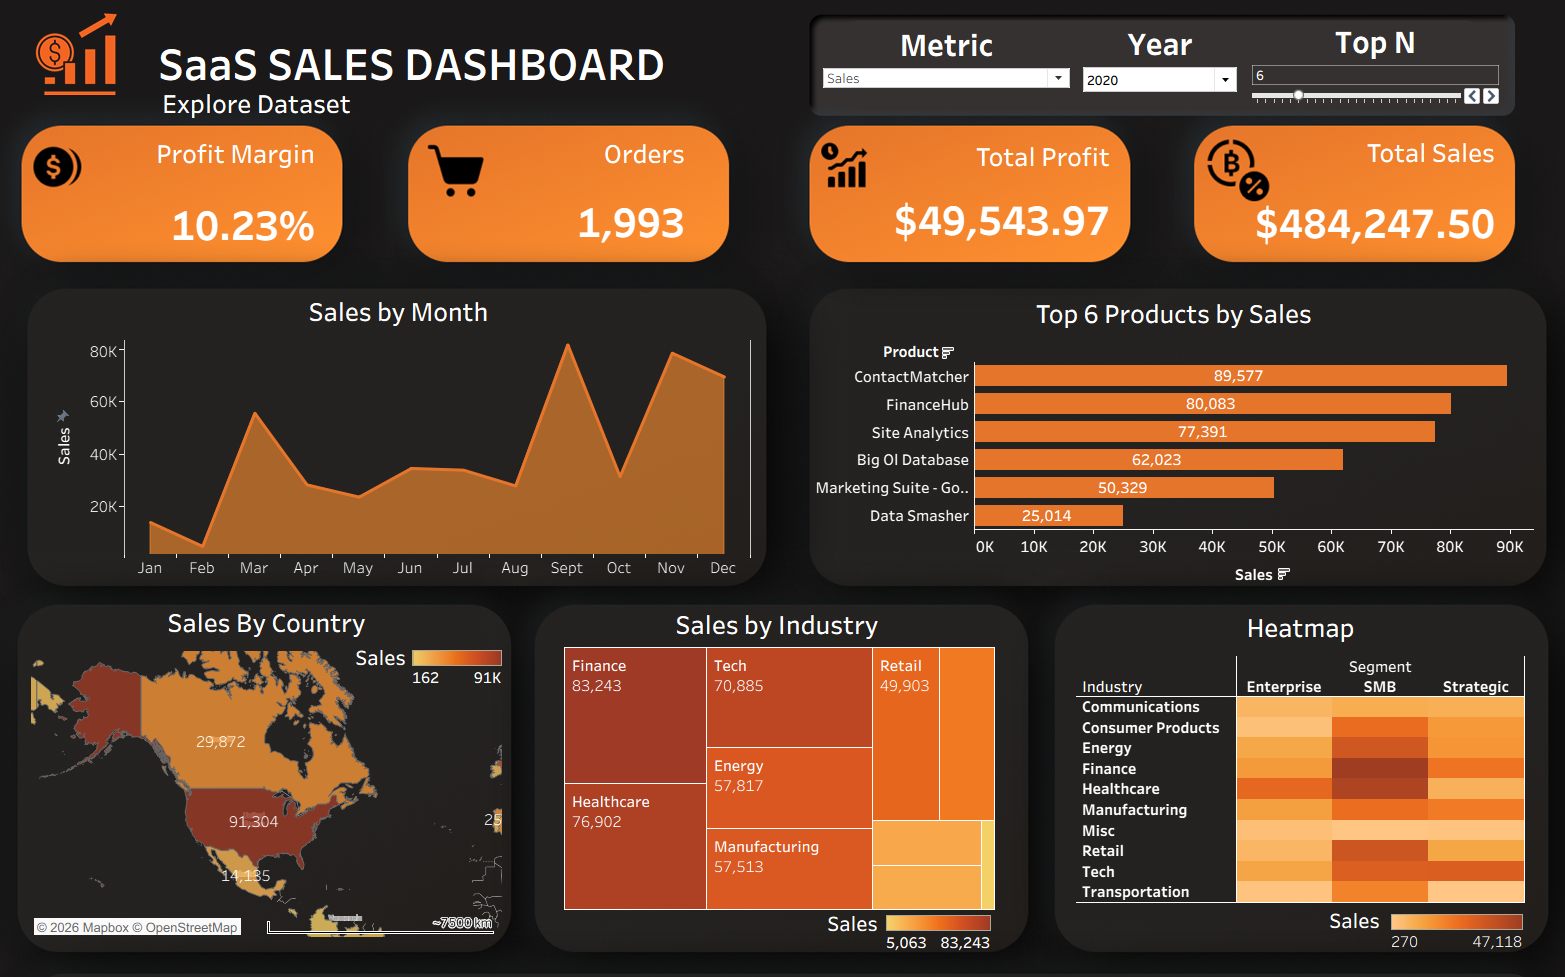

The page's visual inventory and layout, read from the dashboard file:
{"tool":"tableau","page":{"name":"Sales Dashboard","canvas":[1600,1300],"ordinal":0},"visuals":[{"type":"image","param":"Image/BG2.png","box":[8,8,1584,1284]},{"type":"text","box":[172,20,616,111]},{"type":"image","param":"Image/SALESDBICON2.png","box":[52,26,82,110]},{"type":"parameter","param":"[Parameters].[Parameter 2]","box":[1262,29,261,123]},{"type":"filter","title":"Monthly Trend","param":"[federated.0b58bk8146kw1t11h879905e187f].[yr:Order Date:ok]","box":[1093,31,168,102]},{"type":"parameter","param":"[Parameters].[Parameter 1]","box":[833,32,261,123]},{"type":"worksheet","title":"Sheet 12","mark":"Automatic","box":[175,95,547,62]},{"type":"worksheet","title":"Total Sales","mark":"Automatic","box":[1131,140,389,141]},{"type":"worksheet","title":"Profit Margin","mark":"Automatic","box":[9,141,331,143]},{"type":"worksheet","title":"Orders","mark":"Automatic","box":[321,141,389,136]},{"type":"worksheet","title":"Total Profit","mark":"Automatic","box":[747,144,388,127]},{"type":"worksheet","title":"Monthly Trend","mark":"Area","rows":["Calculation_2215848012386312","Calculation_2215848012386312"],"cols":["Order Date"],"box":[59,299,713,298]},{"type":"worksheet","title":"Top Products","mark":"Automatic","rows":["Product"],"cols":["Calculation_2215848012386312"],"box":[827,301,728,308]},{"type":"text","box":[541,612,506,51]},{"type":"worksheet","title":"Map","mark":"Multipolygon","box":[48,614,471,336]},{"type":"worksheet","title":"Heatmap","mark":"Automatic","rows":["Industry"],"cols":["Segment"],"box":[1089,615,457,305]},{"type":"worksheet","title":"TreeMap","mark":"Automatic","box":[577,641,438,293]},{"type":"text","box":[369,653,366,35]},{"type":"legend","title":"Map","param":"[federated.0b58bk8146kw1t11h879905e187f].[usr:Calculation_2215848012386312:qk]","box":[425,659,98,59]},{"type":"text","box":[841,919,366,35]},{"type":"legend","title":"Heatmap","param":"[federated.0b58bk8146kw1t11h879905e187f].[usr:Calculation_2215848012386312:qk]","box":[1404,923,140,73]},{"type":"legend","title":"TreeMap","param":"[federated.0b58bk8146kw1t11h879905e187f].[usr:Calculation_2215848012386312:qk]","box":[899,924,113,57]},{"type":"worksheet","title":"Industry Wise Sales","mark":"Automatic","rows":["Industry"],"cols":["Calculation_2215848012386312"],"box":[55,997,1492,283]}]}

Visuals, with their boxes on the page's 1600x1300 design canvas (x1, y1, x2, y2). These are canvas units, not pixel positions in the 1565x977 screenshot, which may show the page scaled, cropped or inside an application window:
image: locate(8, 8, 1592, 1292)
text: locate(172, 20, 788, 131)
image: locate(52, 26, 134, 136)
parameter: locate(1262, 29, 1523, 152)
"Monthly Trend" filter: locate(1093, 31, 1261, 133)
parameter: locate(833, 32, 1094, 155)
"Sheet 12" worksheet: locate(175, 95, 722, 157)
"Total Sales" worksheet: locate(1131, 140, 1520, 281)
"Profit Margin" worksheet: locate(9, 141, 340, 284)
"Orders" worksheet: locate(321, 141, 710, 277)
"Total Profit" worksheet: locate(747, 144, 1135, 271)
"Monthly Trend" worksheet (Area marks): locate(59, 299, 772, 597)
"Top Products" worksheet: locate(827, 301, 1555, 609)
text: locate(541, 612, 1047, 663)
"Map" worksheet (Multipolygon marks): locate(48, 614, 519, 950)
"Heatmap" worksheet: locate(1089, 615, 1546, 920)
"TreeMap" worksheet: locate(577, 641, 1015, 934)
text: locate(369, 653, 735, 688)
"Map" legend: locate(425, 659, 523, 718)
text: locate(841, 919, 1207, 954)
"Heatmap" legend: locate(1404, 923, 1544, 996)
"TreeMap" legend: locate(899, 924, 1012, 981)
"Industry Wise Sales" worksheet: locate(55, 997, 1547, 1280)
